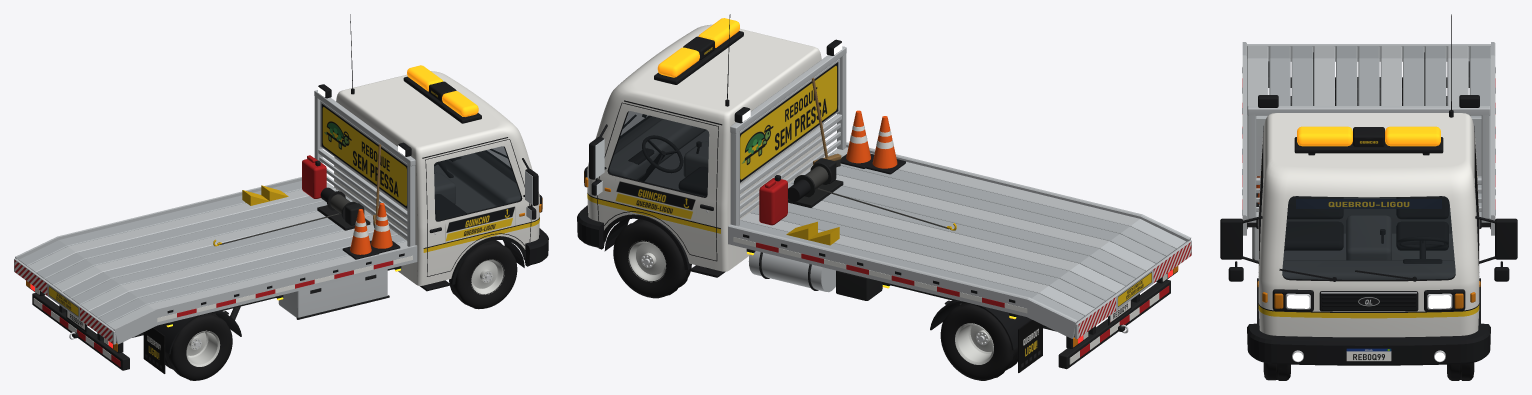
Rendered from guincho_v1.glb.
The picture shows the model from 3 angles, left to right: view 1: azimuth 30°, elevation 25°; view 2: azimuth 150°, elevation 25°; view 3: azimuth 270°, elevation 25°; orthographic projection. The views are drawn at different scales.
Parts seen in each view (by area): view 1: Guincho_carroceria, Guincho_adesivos, Roda_dianteira_D, Roda_traseira_D; view 2: Guincho_carroceria, Guincho_adesivos, Roda_dianteira_E, Roda_traseira_E; view 3: Guincho_carroceria, Guincho_adesivos, Roda_dianteira_E, Roda_dianteira_D.
Part boxes in pixels (x1,y1,x2,y2): Guincho_carroceria: (14, 14, 548, 373); Guincho_adesivos: (14, 87, 515, 373); Roda_dianteira_D: (449, 240, 517, 309); Roda_traseira_D: (165, 313, 232, 380); Guincho_carroceria: (577, 14, 1191, 372); Guincho_adesivos: (615, 43, 1191, 372); Roda_dianteira_E: (613, 219, 691, 298); Roda_traseira_E: (940, 303, 1017, 380); Guincho_carroceria: (1220, 14, 1517, 365); Guincho_adesivos: (1296, 138, 1441, 361); Roda_dianteira_E: (1447, 362, 1474, 380); Roda_dianteira_D: (1263, 362, 1290, 380).
Size of the model in its own units: 5.71 by 3.12 by 2.6.
Materials: 30 (1 with a texture image).
